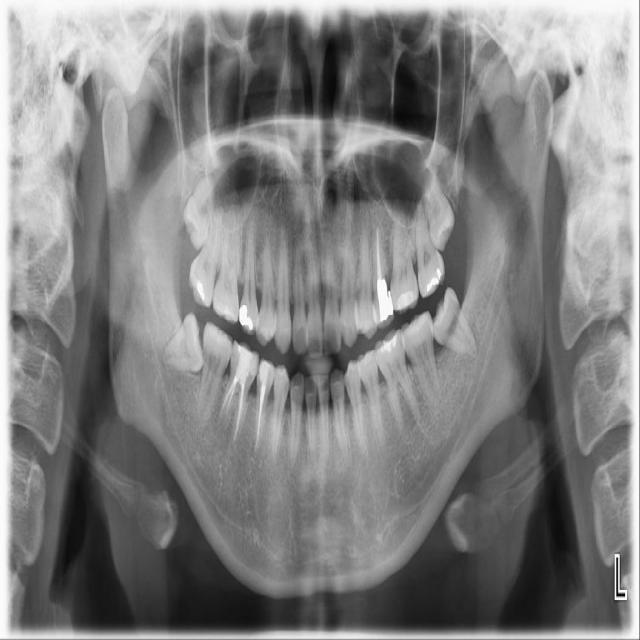Filling: (230, 342, 260, 386), (373, 279, 394, 327), (376, 329, 402, 357), (256, 359, 276, 388), (212, 300, 237, 320), (239, 303, 252, 331), (194, 276, 208, 300)
Root Canal Treatment: (255, 388, 266, 447), (233, 389, 245, 443), (424, 268, 441, 294), (398, 289, 418, 306), (375, 227, 381, 282), (218, 392, 228, 424), (226, 385, 234, 423)
impacted tooth: (424, 160, 456, 250), (162, 312, 205, 372), (184, 168, 214, 249)
